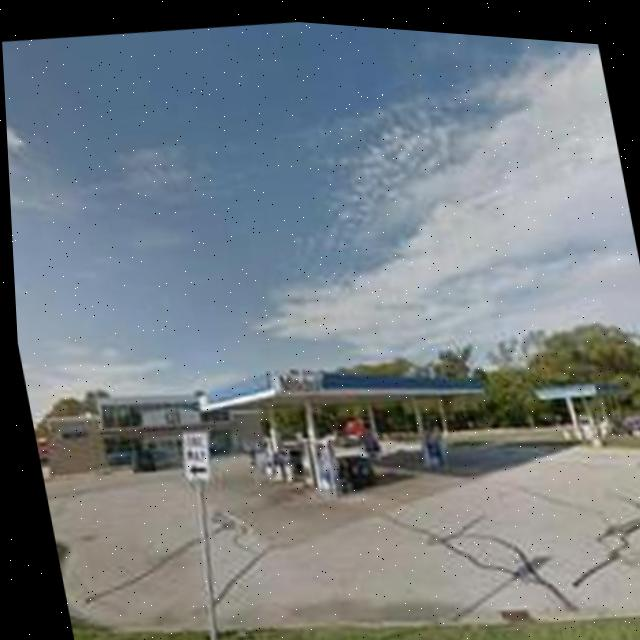building: (34, 320, 509, 543), (526, 361, 635, 448)
